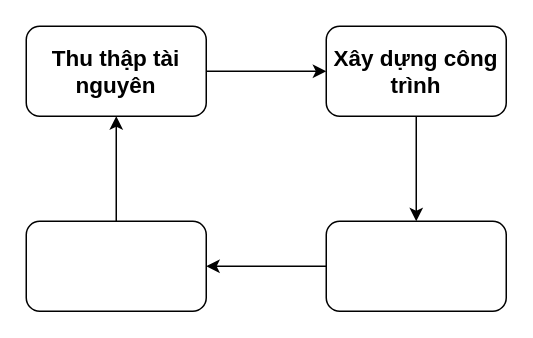
Some shapes in this 533 by 338 pixel diagram are drawn without their labels. Each missing label, with the box of its shape:
Luyện binh: (325, 220, 506, 311)
Phòng thủ/ Tấn công: (25, 220, 206, 311)
